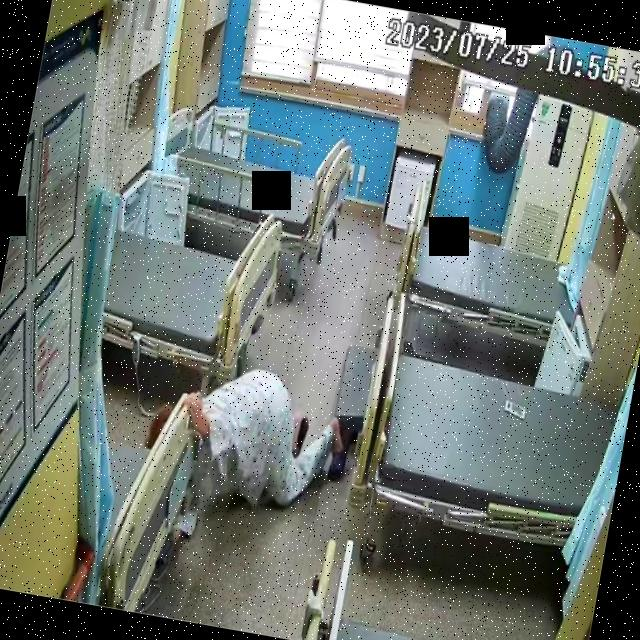bed: (364, 340, 625, 552), (91, 187, 292, 390), (150, 104, 353, 256), (390, 198, 590, 348)
fall: (140, 352, 357, 577)
patient: (140, 352, 358, 577)
